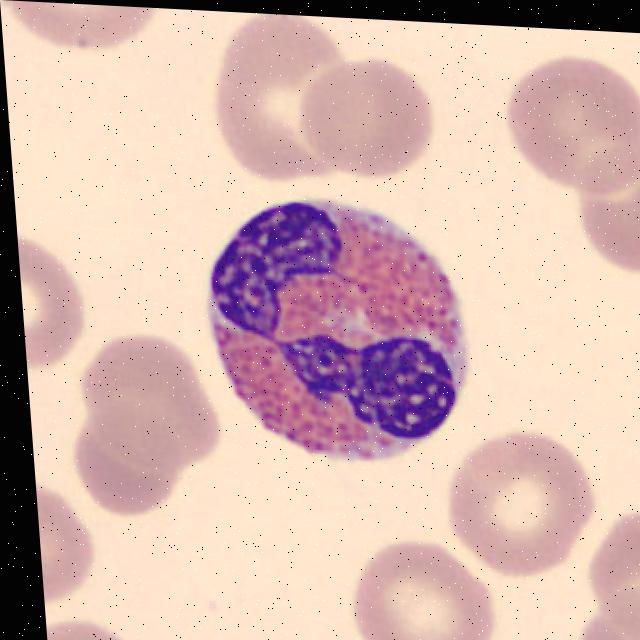eosinophil: (185, 194, 484, 476)
rbc: (202, 11, 348, 193), (438, 424, 596, 578), (489, 42, 640, 200), (74, 330, 230, 479), (280, 47, 443, 184), (345, 535, 511, 640), (56, 406, 188, 519), (17, 230, 91, 375), (567, 141, 640, 286), (0, 0, 176, 60), (35, 467, 103, 609), (575, 503, 640, 640), (574, 580, 640, 640), (45, 611, 134, 640)
